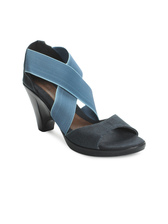shoes: (18, 41, 151, 162)
